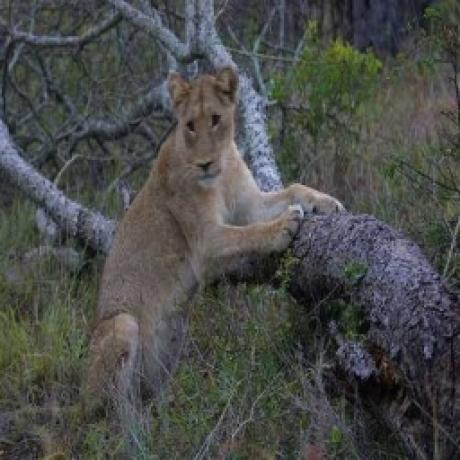Lion: (79, 65, 346, 418)
